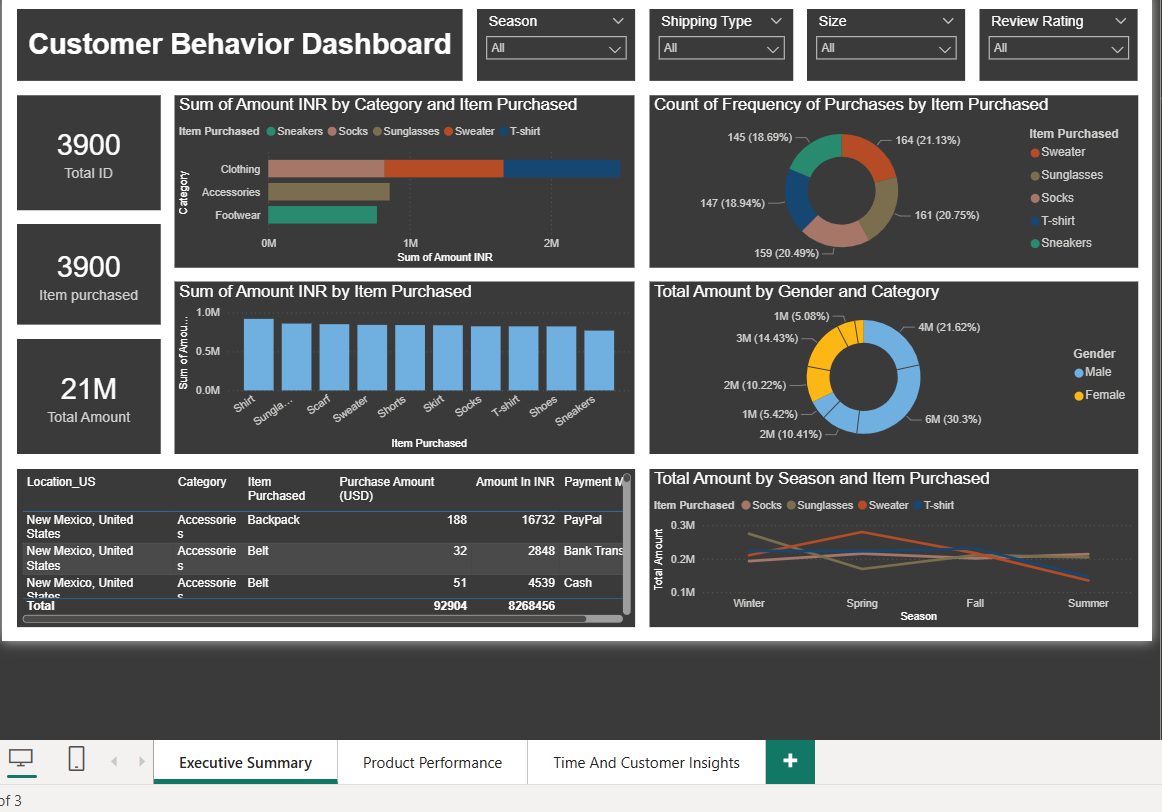

The page's visual inventory and layout, read from the dashboard file:
{"tool":"powerbi","page":{"name":"Executive Summary","canvas":[1280,720],"ordinal":0},"visuals":[{"type":"textbox","box":[16,16,496,80],"z":0},{"type":"card","fields":{"Values":["shopping_behavior_updated.Total ID"]},"box":[16,112,160,128],"z":1000},{"type":"card","fields":{"Values":["shopping_behavior_updated.Total Item purchased"]},"box":[16,256,160,112],"z":2000},{"type":"card","fields":{"Values":["shopping_behavior_updated.Total Amount"]},"box":[16,384,160,128],"z":3000},{"type":"barChart","title":"Revenue Distribution by Category & Product Type","fields":{"Category":["shopping_behavior_updated.Category"],"Y":["Sum(shopping_behavior_updated.Amount INR)"],"Series":["shopping_behavior_updated.Item Purchased"]},"box":[192,112,512,192],"z":4000},{"type":"clusteredColumnChart","title":"Revenue by Individual Products","fields":{"Category":["shopping_behavior_updated.Item Purchased"],"Y":["Sum(shopping_behavior_updated.Amount INR)"]},"box":[192,320,512,192],"z":5000},{"type":"donutChart","title":"Purchase Frequency by Product Type","fields":{"Category":["shopping_behavior_updated.Item Purchased"],"Y":["CountNonNull(shopping_behavior_updated.Frequency of Purchases)"]},"box":[720,112,544,192],"z":6000},{"type":"barChart","title":"Customer Spending by Gender & Category","fields":{"Category":["shopping_behavior_updated.Gender"],"Y":["shopping_behavior_updated.Total Amount"],"Series":["shopping_behavior_updated.Category"]},"box":[720,320,544,192],"z":7000},{"type":"lineChart","title":"Seasonal Sales Trends by Product Type","fields":{"Category":["shopping_behavior_updated.Season"],"Y":["shopping_behavior_updated.Total Amount"],"Series":["shopping_behavior_updated.Item Purchased"]},"box":[720,528,544,176],"z":8000},{"type":"tableEx","fields":{"Values":["shopping_behavior_updated.Location_US","shopping_behavior_updated.Category","shopping_behavior_updated.Item Purchased","Sum(shopping_behavior_updated.Purchase Amount (USD))","Sum(shopping_behavior_updated.Amount INR)","shopping_behavior_updated.Payment Method"]},"box":[16,528,688,176],"z":9000},{"type":"slicer","fields":{"Values":["shopping_behavior_updated.Season"]},"box":[528,16,176,80],"z":10000},{"type":"slicer","fields":{"Values":["shopping_behavior_updated.Shipping Type"]},"box":[720,16,160,80],"z":11000},{"type":"slicer","fields":{"Values":["shopping_behavior_updated.Size"]},"box":[896,16,176,80],"z":12000},{"type":"slicer","fields":{"Values":["shopping_behavior_updated.Review Rating"]},"box":[1088,16,176,80],"z":13000}]}

Visuals, with their boxes in screenshot pixels (x1, y1, x2, y2):
textbox: crop(17, 8, 461, 80)
card - shopping_behavior_updated.Total ID: crop(17, 94, 161, 209)
card - shopping_behavior_updated.Total Item purchased: crop(17, 223, 161, 323)
card - shopping_behavior_updated.Total Amount: crop(17, 338, 161, 452)
"Revenue Distribution by Category & Product Type" barChart: crop(175, 94, 633, 266)
"Revenue by Individual Products" clusteredColumnChart: crop(175, 280, 633, 452)
"Purchase Frequency by Product Type" donutChart: crop(648, 94, 1135, 266)
"Customer Spending by Gender & Category" barChart: crop(648, 280, 1135, 452)
"Seasonal Sales Trends by Product Type" lineChart: crop(648, 467, 1135, 624)
tableEx - shopping_behavior_updated.Location_US x shopping_behavior_updated.Category: crop(17, 467, 633, 624)
slicer - shopping_behavior_updated.Season: crop(476, 8, 633, 80)
slicer - shopping_behavior_updated.Shipping Type: crop(648, 8, 791, 80)
slicer - shopping_behavior_updated.Size: crop(805, 8, 963, 80)
slicer - shopping_behavior_updated.Review Rating: crop(977, 8, 1135, 80)
